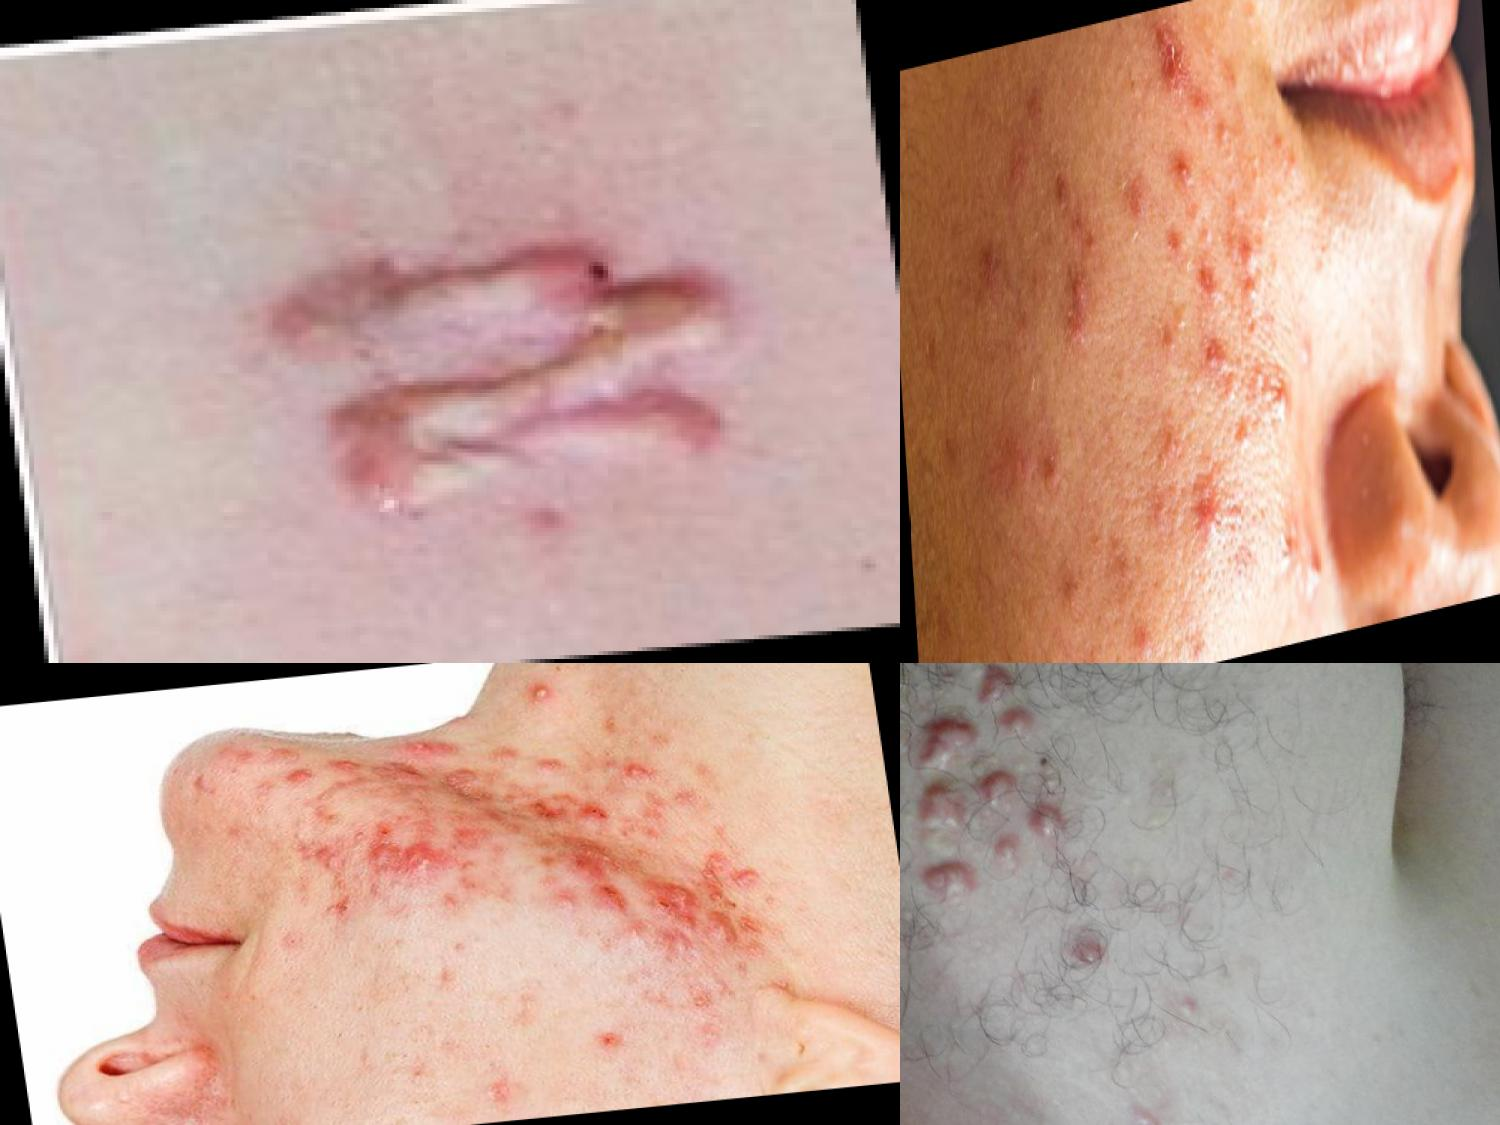acne_scars: (702, 903, 770, 960), (428, 767, 495, 813), (441, 820, 490, 861)
blackhead: (267, 912, 335, 978), (455, 1023, 519, 1082), (384, 1040, 441, 1095)
keloid: (261, 207, 793, 537), (971, 756, 1081, 890), (904, 705, 989, 783), (970, 664, 1046, 748), (907, 854, 990, 915), (909, 783, 972, 848)
milium: (1220, 1, 1241, 35)
papular: (1059, 256, 1104, 327), (1233, 234, 1266, 321), (1261, 360, 1300, 434), (1191, 477, 1225, 544), (582, 1020, 635, 1062), (478, 740, 529, 778), (278, 763, 324, 796), (620, 757, 661, 792), (327, 749, 373, 780), (531, 756, 575, 782)
purulent: (514, 669, 566, 717), (671, 980, 728, 1022), (1173, 147, 1200, 208)
sebo-crystan-conglo: (547, 833, 634, 934), (514, 786, 637, 843), (357, 822, 450, 892), (381, 727, 480, 778), (637, 869, 706, 936), (728, 861, 782, 904)
whitehead: (265, 802, 321, 869)
